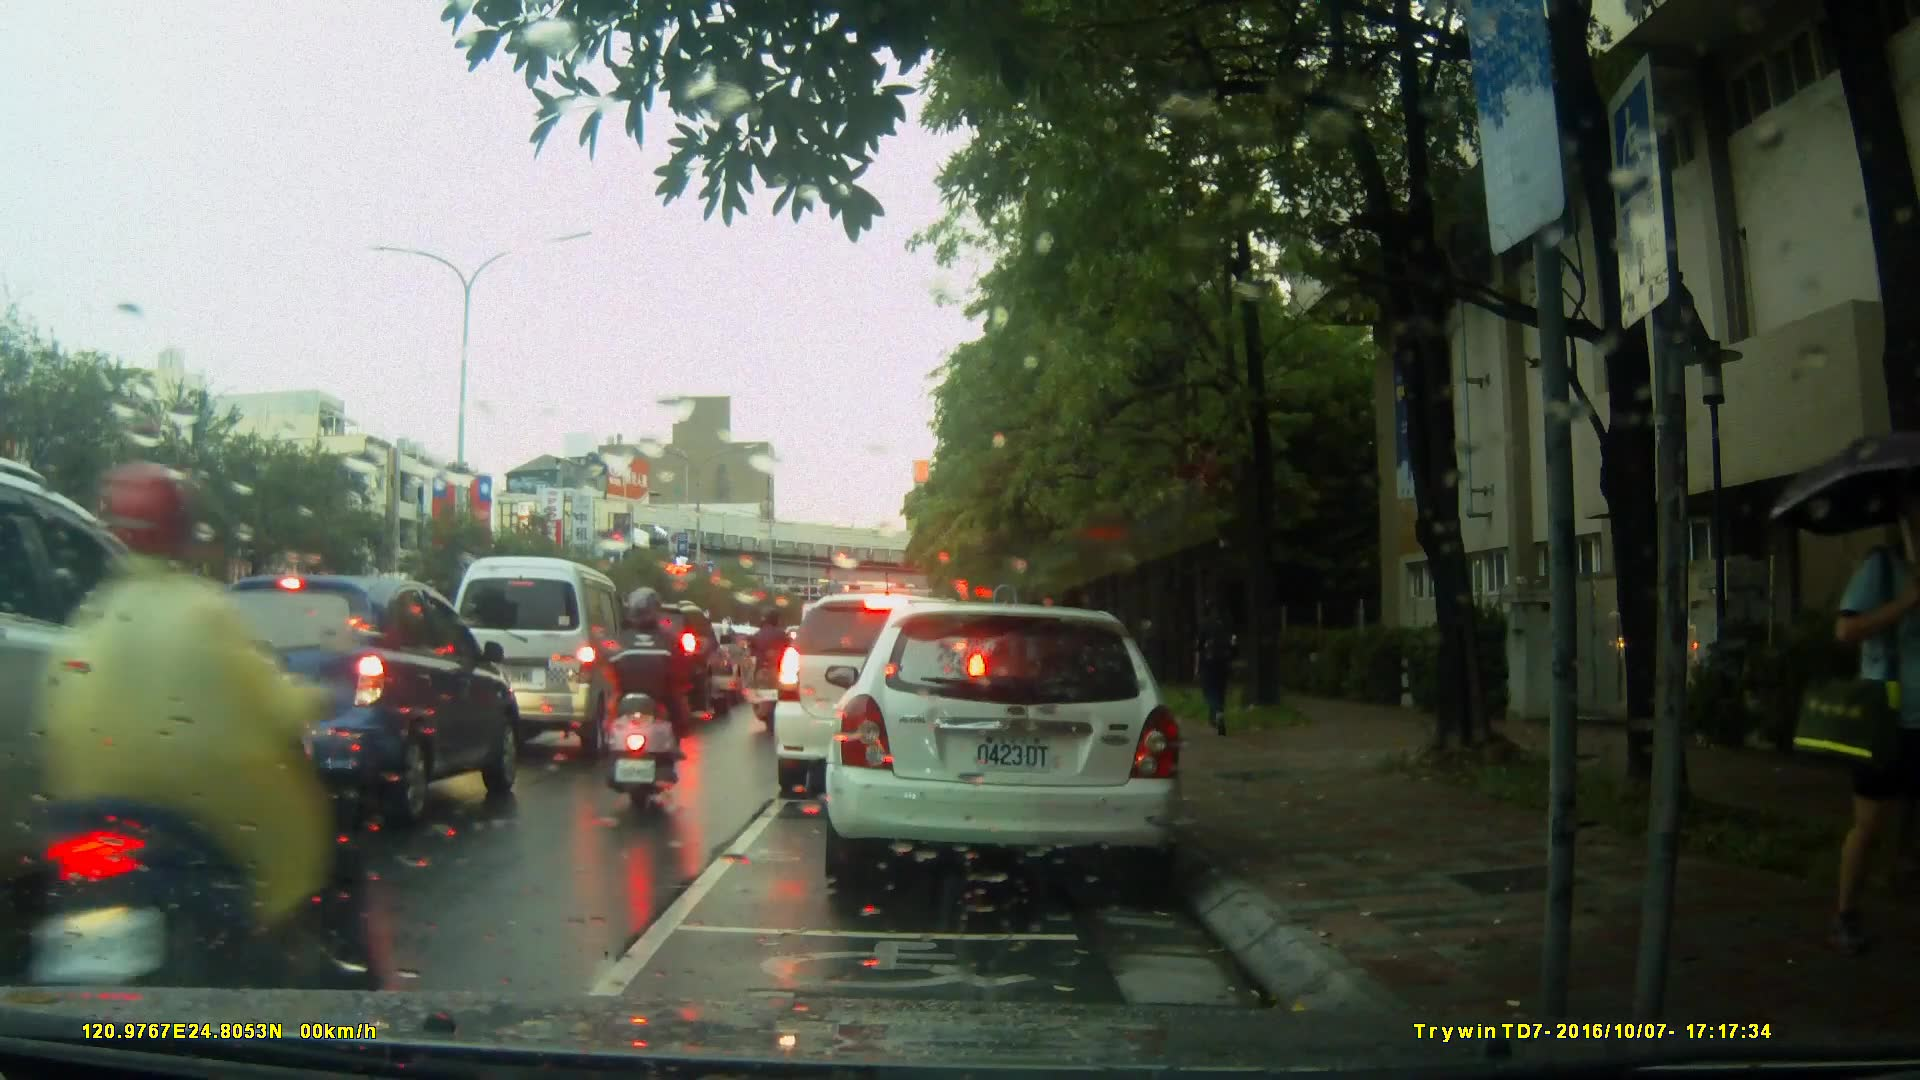pedestrian: (1828, 460, 1920, 959), (1181, 589, 1253, 742)
rider: (43, 439, 318, 1076), (601, 579, 694, 812), (751, 609, 798, 724)
vehicle: (1, 451, 323, 989), (815, 593, 1204, 909), (167, 573, 533, 835), (770, 590, 994, 802), (443, 553, 644, 763), (584, 602, 735, 724)
